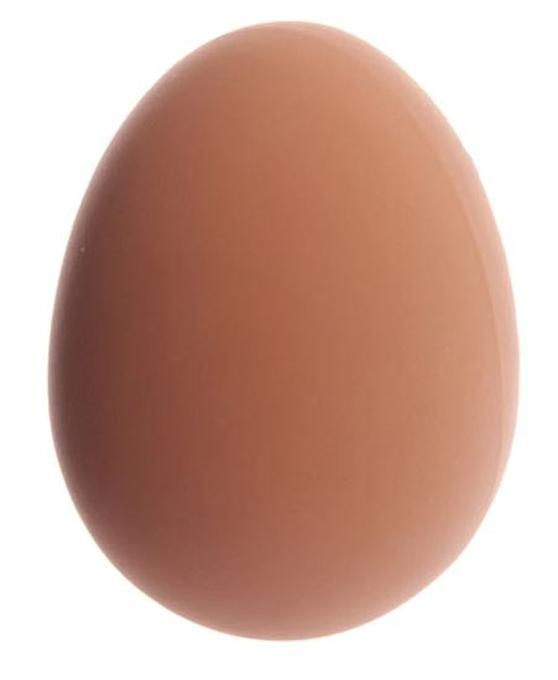egg: (48, 16, 526, 640)
